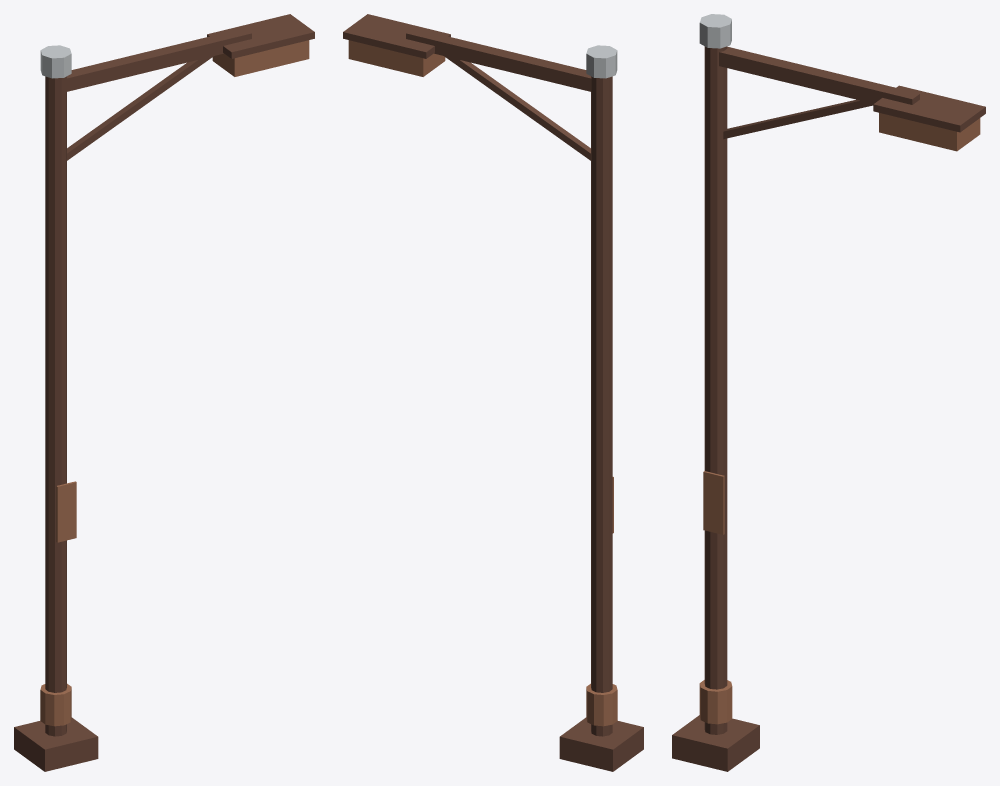
The model's file is StreetLamp.fbx.
3 renders of one model, left to right at view 1: azimuth 30°, elevation 25°; view 2: azimuth 150°, elevation 25°; view 3: azimuth 330°, elevation 25°, orthographic. The views are drawn at different scales.
Visible parts, largest first — view 1: StreetLamp; view 2: StreetLamp; view 3: StreetLamp.
Part boxes in pixels (box(x1,y1,x2,y2)): StreetLamp: box(14, 14, 314, 771); StreetLamp: box(343, 14, 643, 771); StreetLamp: box(672, 14, 985, 771).
Size of the model in its own units: 2.56 by 6.29 by 0.5.
